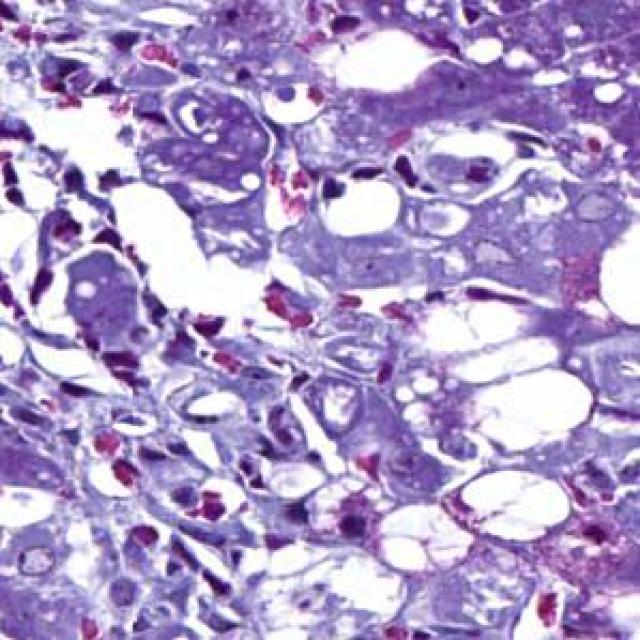ballooning: (244, 535, 409, 638), (370, 499, 480, 580)
